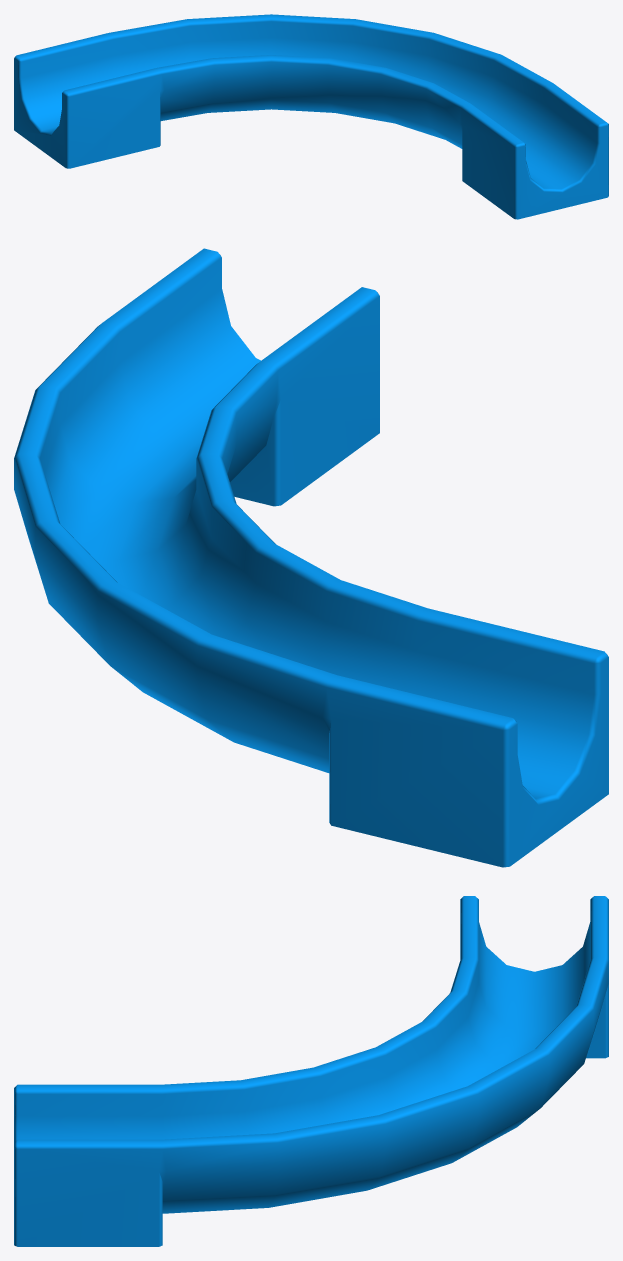
File: Track Curve 4x4.fbx
The picture shows the model from 3 angles, top to bottom: view 1: azimuth 30°, elevation 25°; view 2: azimuth 150°, elevation 25°; view 3: azimuth 270°, elevation 25°; orthographic projection. The views are drawn at different scales.
Parts seen in each view (by area): view 1: Track Curve 4x4; view 2: Track Curve 4x4; view 3: Track Curve 4x4.
Boxes of the visible parts, x1,y1,x2,y2 form: Track Curve 4x4: (14, 14, 608, 219); Track Curve 4x4: (14, 248, 608, 867); Track Curve 4x4: (14, 896, 608, 1246).
Bounding box in the file's own units: 400 × 75 × 400.
